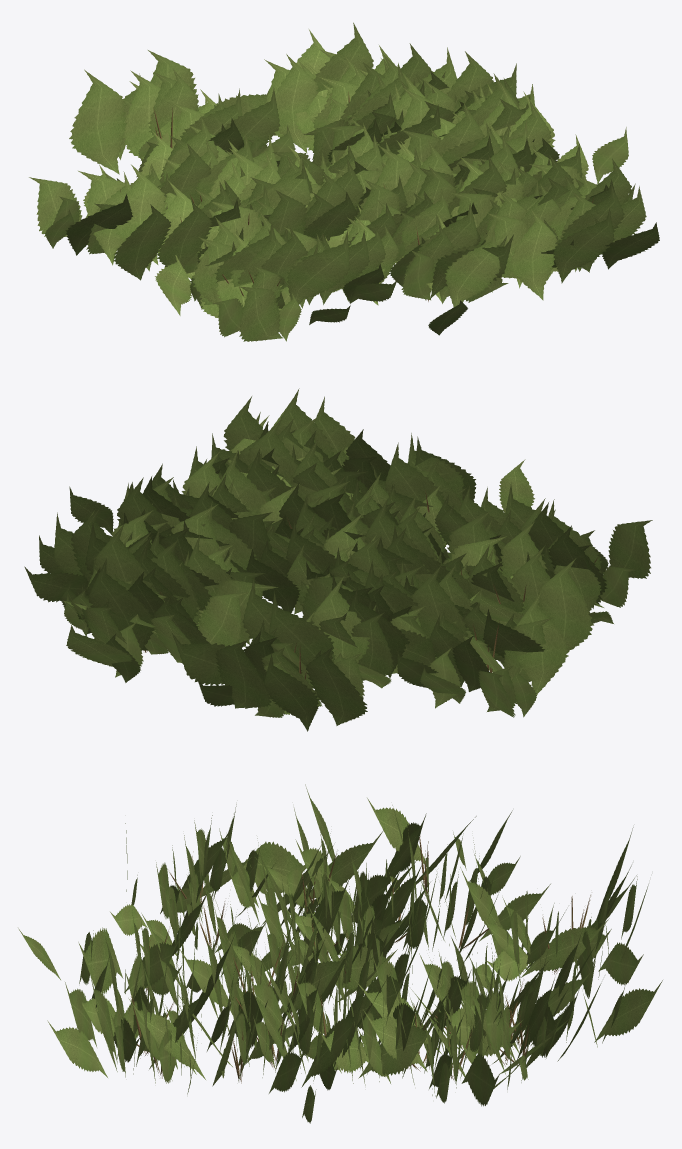
Rendered from WEED_02_Clover_Patch.glb.
3 views of the same model, one above another, from view 1: azimuth 30°, elevation 25°; view 2: azimuth 150°, elevation 25°; view 3: azimuth 270°, elevation 25° (orthographic). The views are drawn at different scales.
Parts seen in each view (by area): view 1: WEED_02_Clover_Patch__FoliageCards; view 2: WEED_02_Clover_Patch__FoliageCards; view 3: WEED_02_Clover_Patch__FoliageCards, WEED_02_Clover_Patch__WoodyStems.
Boxes of the visible parts, <box> form: WEED_02_Clover_Patch__FoliageCards: <box>29,22,659,341</box>; WEED_02_Clover_Patch__FoliageCards: <box>24,388,652,731</box>; WEED_02_Clover_Patch__FoliageCards: <box>18,784,662,1123</box>; WEED_02_Clover_Patch__WoodyStems: <box>131,826,590,1083</box>.
Size of the model in its own units: 1.14 by 0.2402 by 1.1.
Materials: 1 (1 with a texture image).
